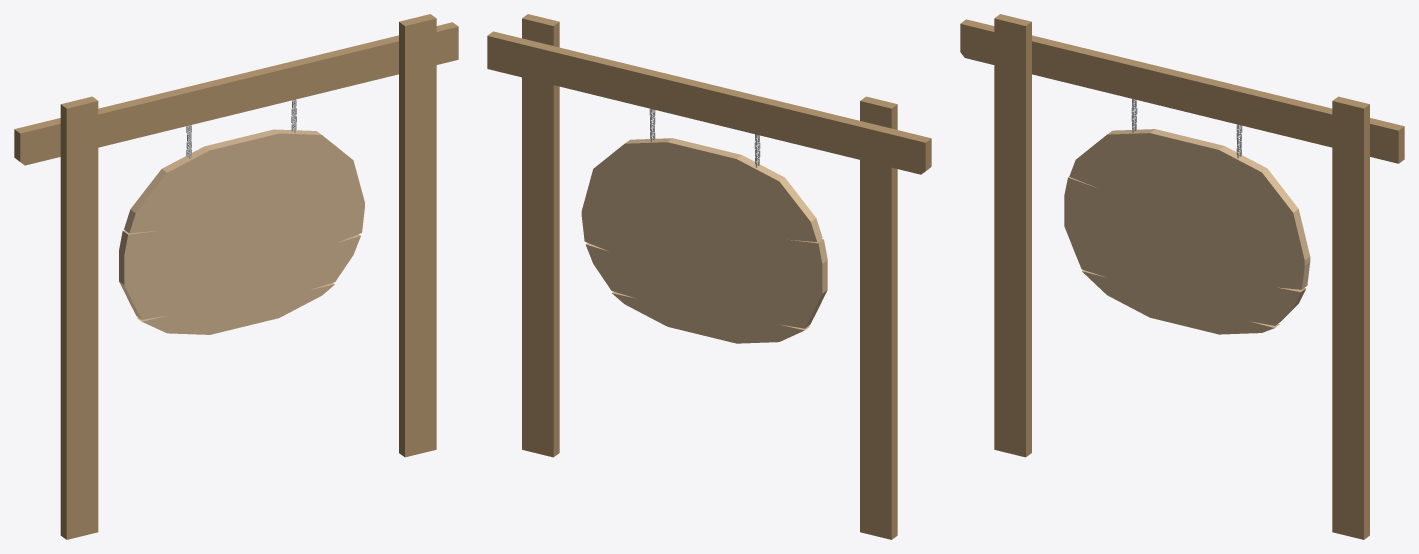
File: sign.glb
The picture shows the model from 3 angles, left to right: view 1: azimuth 30°, elevation 25°; view 2: azimuth 150°, elevation 25°; view 3: azimuth 330°, elevation 25°; orthographic projection.
Visible parts, largest first — view 1: Sign2; view 2: Sign2; view 3: Sign2.
Part boxes in pixels (x1,y1,x2,y2): Sign2: [14, 14, 458, 539]; Sign2: [487, 14, 931, 539]; Sign2: [960, 14, 1404, 539].
Bounding box in the file's own units: 2.21 × 2.08 × 0.1078.
